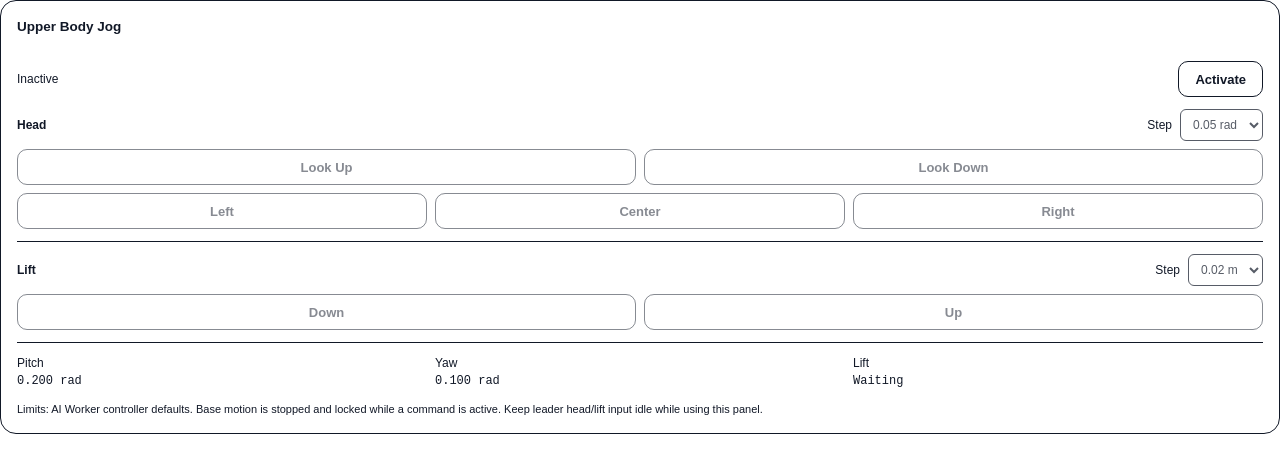
Test: available group works without unrelated joint feedback
This screenshot has width=1280, height=451.
What coordinates should you click on to do the following:
click the button "Activate"
I would click on:
 (1221, 79)
Its box is [1178, 61, 1263, 97].
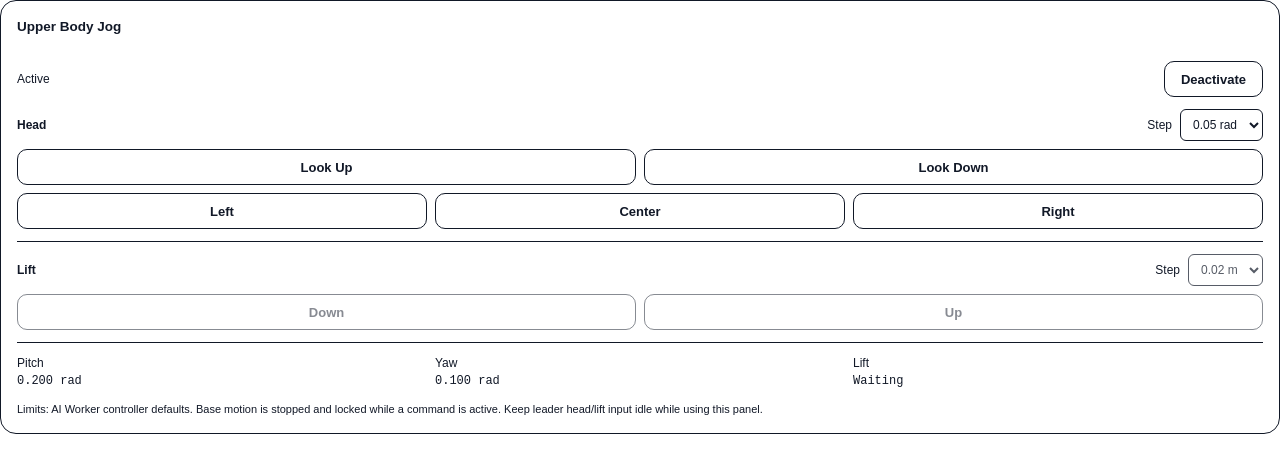
What coordinates should you click on to do the following:
click the button "Look Up"
I would click on:
 (326, 167)
Its box is [17, 149, 636, 185].
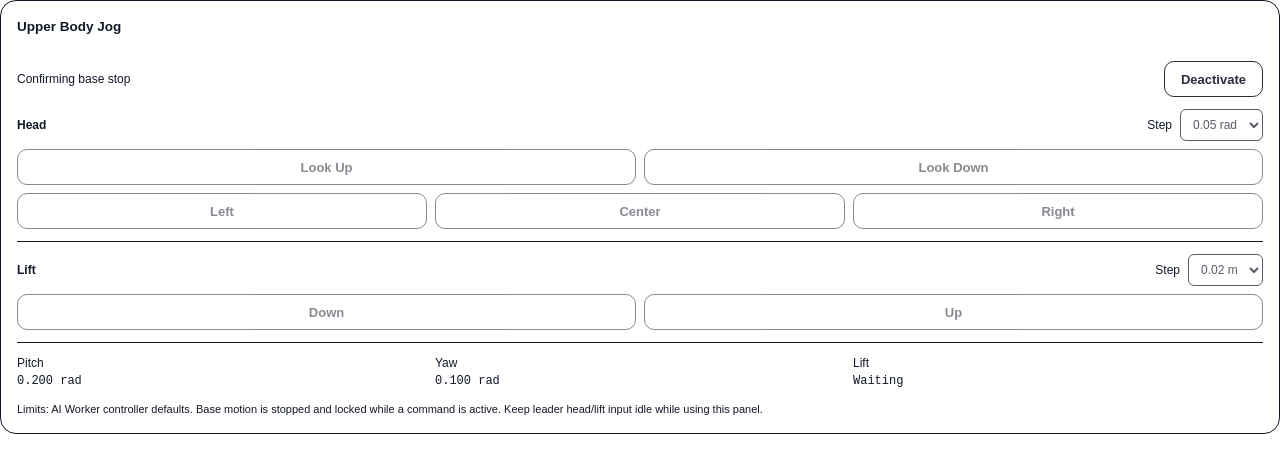
Expected: the button "Up" is disabled, [644, 294, 1263, 330]
Expected: the text "Confirming base stop" is shown, [17, 71, 130, 87]
